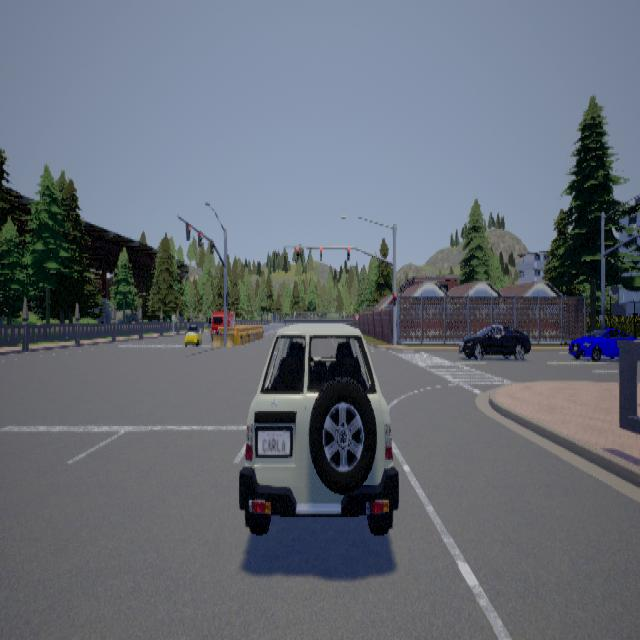red_light: (198, 230, 203, 247), (186, 221, 190, 239), (210, 238, 214, 254), (347, 247, 350, 260), (296, 246, 298, 260), (394, 292, 396, 305), (320, 248, 322, 261)
traffic_light: (225, 291, 228, 305)
vehicle: (238, 310, 398, 534), (457, 325, 530, 359), (567, 327, 636, 360), (210, 306, 235, 334), (184, 324, 202, 344)
